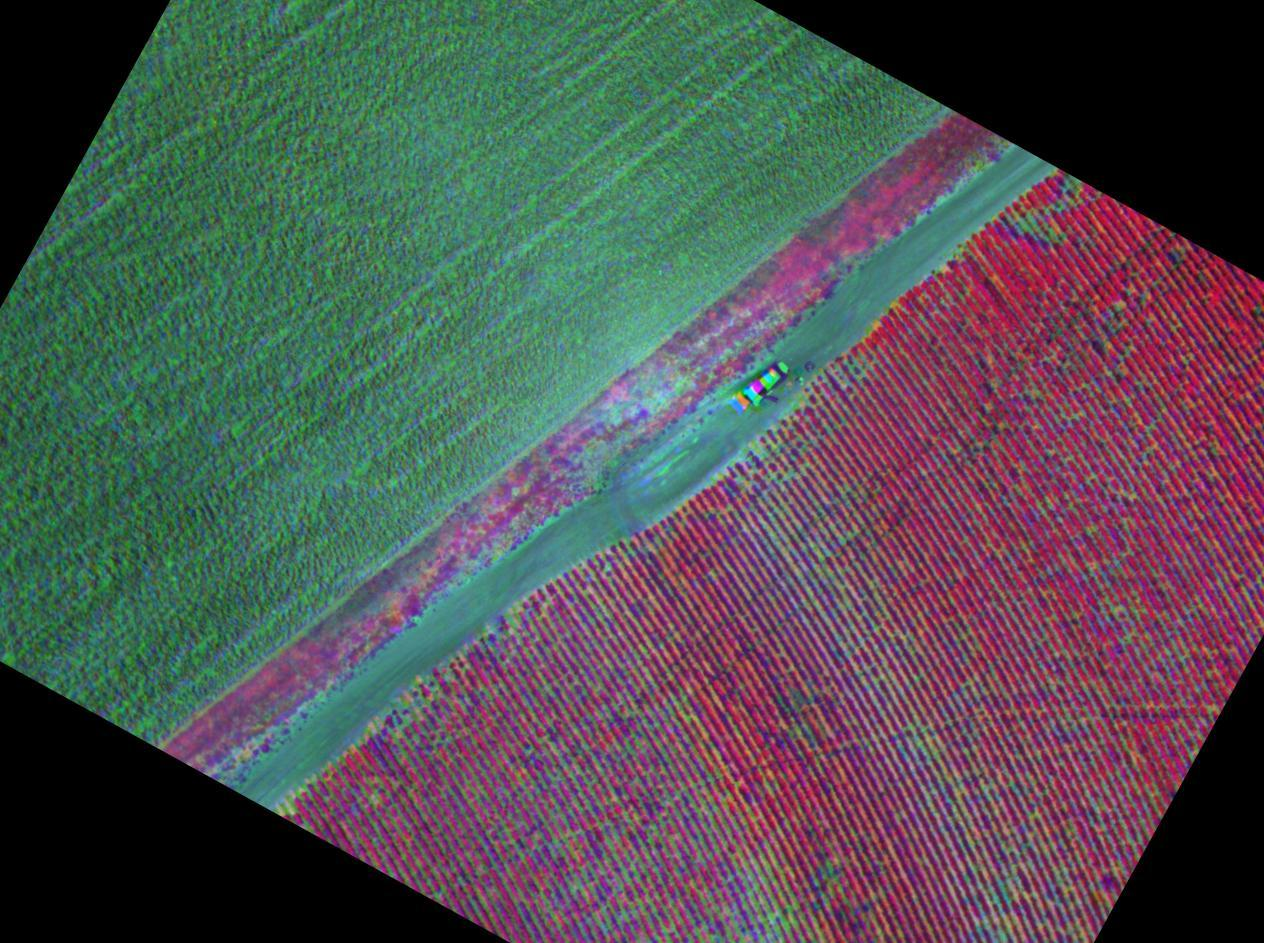dc: (769, 914, 775, 919), (786, 472, 791, 477)
